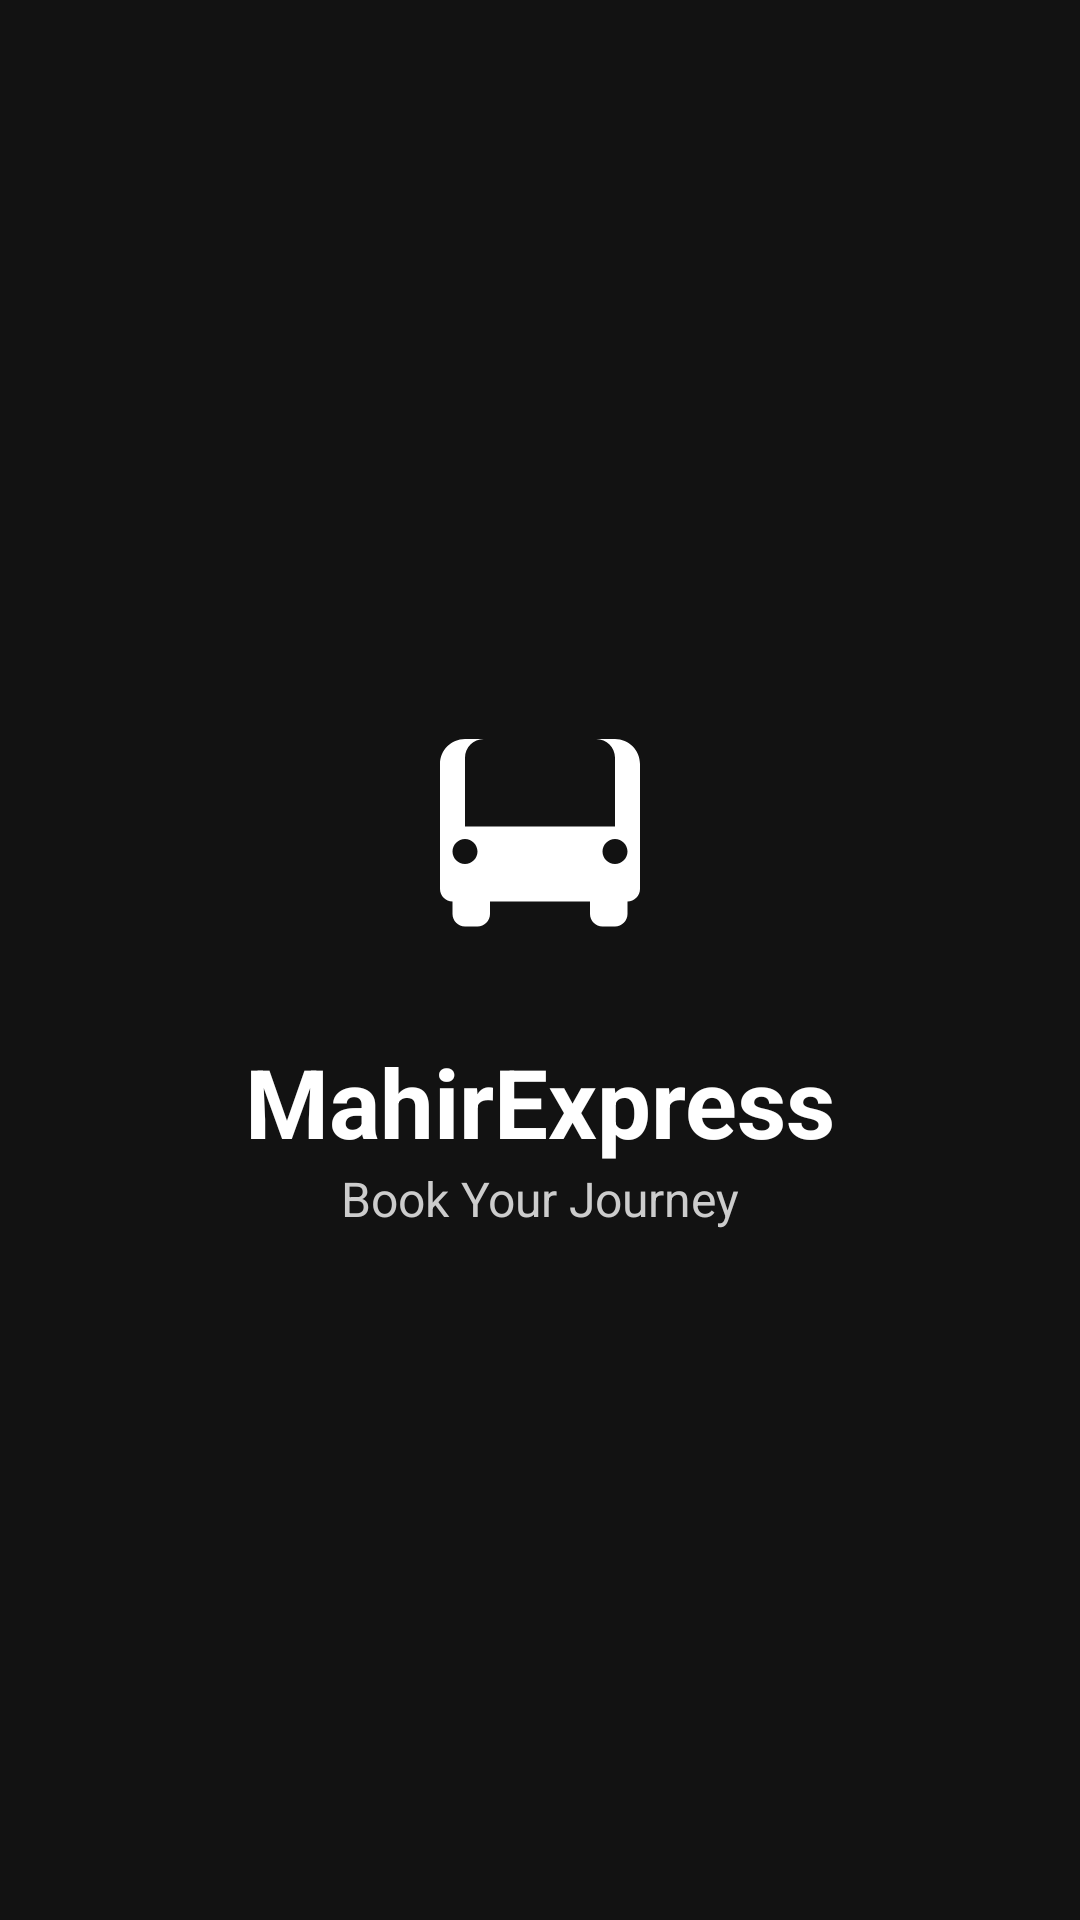

Point at icon controls on the screen. Image size 1080×1920, points as [x,y].
bus: [540,833]
